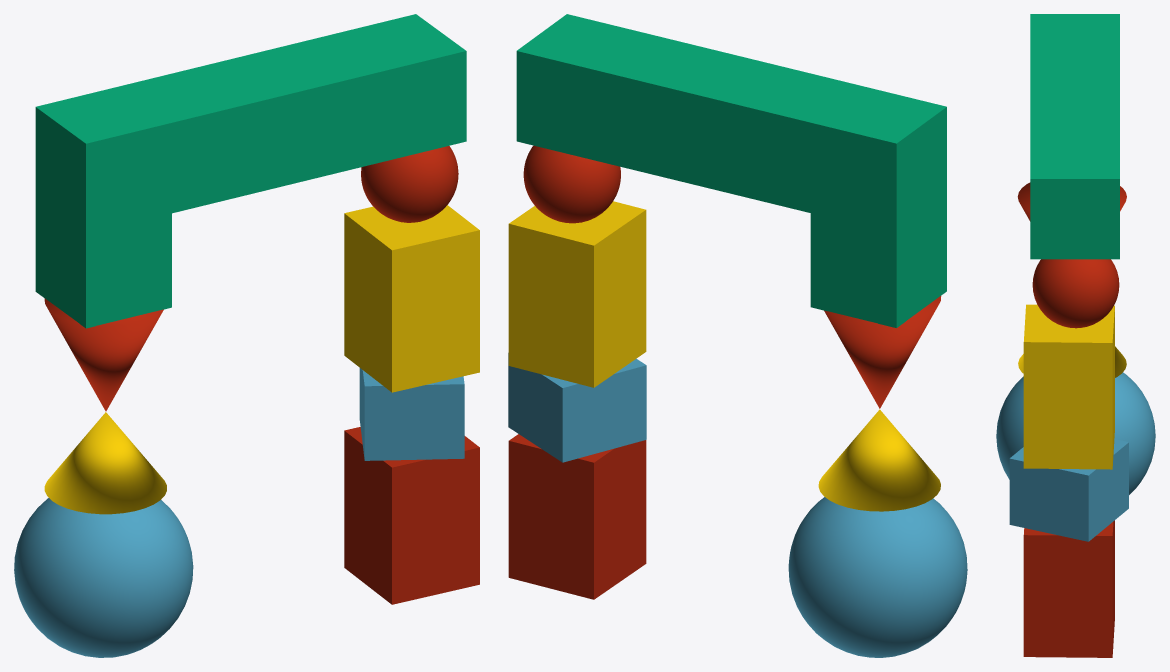
The model's file is gate_1.glb.
The picture shows the model from 3 angles, left to right: view 1: azimuth 30°, elevation 25°; view 2: azimuth 150°, elevation 25°; view 3: azimuth 270°, elevation 25°; orthographic projection. The views are drawn at different scales.
Visible parts, largest first — view 1: Cone.002; view 2: Cone.002; view 3: Cone.002.
Part boxes in pixels (x1,y1,x2,y2): Cone.002: (14,14,479,657); Cone.002: (508,14,967,657); Cone.002: (996,14,1155,657).
Bounding box in the file's own units: 13.04 × 15.15 × 4.6.
